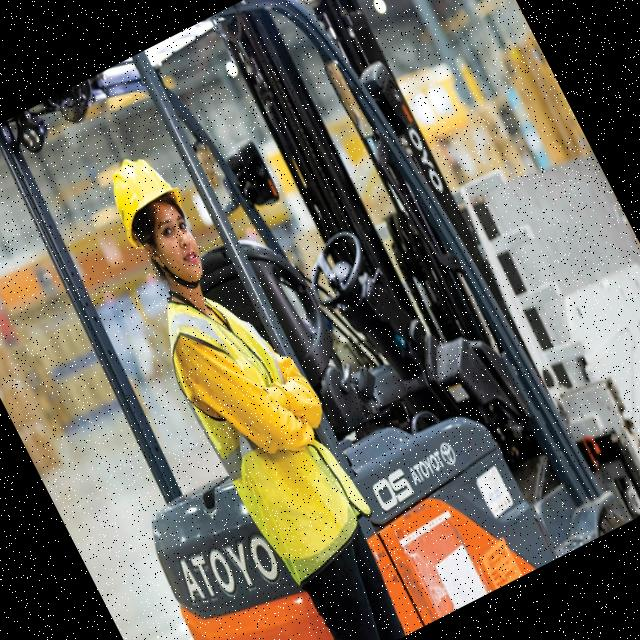Person: (76, 131, 432, 640)
